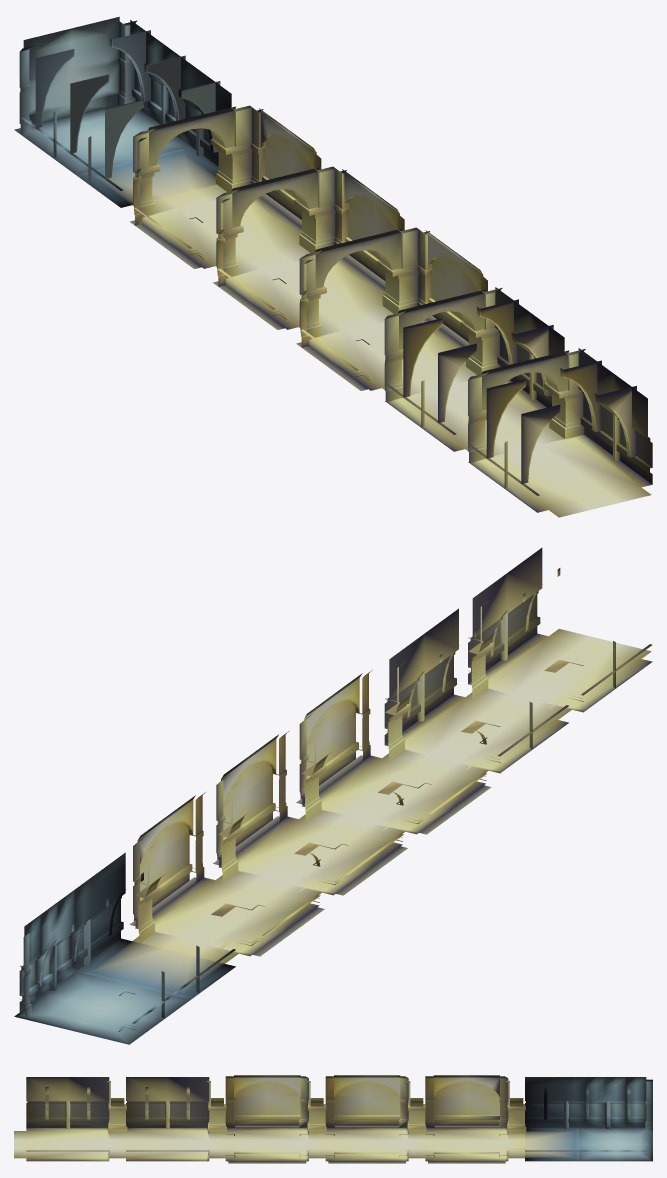
File: 12HallC.gltf
The picture shows the model from 3 angles, top to bottom: view 1: azimuth 30°, elevation 25°; view 2: azimuth 150°, elevation 25°; view 3: azimuth 270°, elevation 25°; orthographic projection. The views are drawn at different scales.
Parts seen in each view (by area): view 1: stg040_o37_Mesh_0002, stg040_o37_Mesh_0007, stg040_o37_Mesh_0014, stg040_o37_Mesh_0003, stg040_o37_Mesh_0004, stg040_o37_Mesh_0008, stg040_o37_Mesh_0006, stg040_o37_Mesh_0015, stg040_o37_Mesh_0013, stg040_o37_Mesh_0000, stg040_o37_Mesh_0001, stg040_o37_Mesh_0016 (+4 smaller); view 2: stg040_o37_Mesh_0014, stg040_o37_Mesh_0002, stg040_o37_Mesh_0004, stg040_o37_Mesh_0015, stg040_o37_Mesh_0003, stg040_o37_Mesh_0013, stg040_o37_Mesh_0008, stg040_o37_Mesh_0000, stg040_o37_Mesh_0016, stg040_o37_Mesh_0009, stg040_o37_Mesh_0007, stg040_o37_Mesh_0017 (+4 smaller); view 3: stg040_o37_Mesh_0002, stg040_o37_Mesh_0004, stg040_o37_Mesh_0014, stg040_o37_Mesh_0008, stg040_o37_Mesh_0003, stg040_o37_Mesh_0000, stg040_o37_Mesh_0015, stg040_o37_Mesh_0013, stg040_o37_Mesh_0007, stg040_o37_Mesh_0006, stg040_o37_Mesh_0016, stg040_o37_Mesh_0001 (+4 smaller).
Part boxes in pixels (x1,y1,x2,y2): stg040_o37_Mesh_0002: (19, 16, 652, 512); stg040_o37_Mesh_0007: (35, 31, 636, 482); stg040_o37_Mesh_0014: (150, 200, 638, 508); stg040_o37_Mesh_0003: (14, 22, 652, 500); stg040_o37_Mesh_0004: (79, 148, 649, 510); stg040_o37_Mesh_0008: (19, 38, 629, 457); stg040_o37_Mesh_0006: (149, 110, 567, 408); stg040_o37_Mesh_0015: (125, 164, 604, 499); stg040_o37_Mesh_0013: (132, 184, 651, 517); stg040_o37_Mesh_0000: (20, 87, 652, 495); stg040_o37_Mesh_0001: (20, 93, 584, 462); stg040_o37_Mesh_0016: (17, 105, 188, 173); stg040_o37_Mesh_0014: (155, 638, 638, 951); stg040_o37_Mesh_0002: (20, 547, 652, 1030); stg040_o37_Mesh_0004: (79, 635, 649, 996); stg040_o37_Mesh_0015: (125, 646, 604, 985); stg040_o37_Mesh_0003: (14, 606, 607, 1044); stg040_o37_Mesh_0013: (132, 629, 651, 963); stg040_o37_Mesh_0008: (23, 568, 560, 1004); stg040_o37_Mesh_0000: (20, 616, 652, 1023); stg040_o37_Mesh_0016: (16, 972, 188, 1043); stg040_o37_Mesh_0009: (19, 594, 537, 994); stg040_o37_Mesh_0007: (140, 700, 355, 870); stg040_o37_Mesh_0017: (51, 986, 153, 1029); stg040_o37_Mesh_0002: (26, 1075, 652, 1161); stg040_o37_Mesh_0004: (29, 1097, 574, 1163); stg040_o37_Mesh_0014: (29, 1131, 505, 1158); stg040_o37_Mesh_0008: (26, 1087, 652, 1124); stg040_o37_Mesh_0003: (26, 1078, 652, 1161); stg040_o37_Mesh_0000: (26, 1115, 646, 1153); stg040_o37_Mesh_0015: (29, 1141, 574, 1147); stg040_o37_Mesh_0013: (14, 1131, 524, 1158); stg040_o37_Mesh_0007: (234, 1082, 499, 1097); stg040_o37_Mesh_0006: (234, 1077, 499, 1093); stg040_o37_Mesh_0016: (580, 1128, 651, 1160); stg040_o37_Mesh_0001: (108, 1120, 652, 1157).
Size of the model in its own units: 20.47 by 13.04 by 145.
